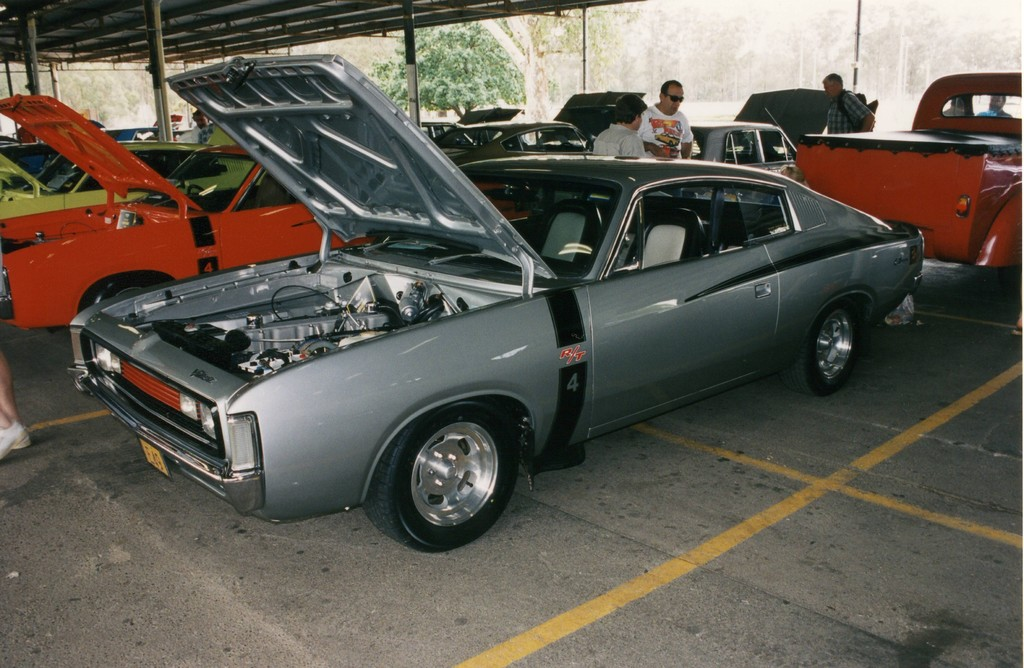Car: (0, 51, 1023, 553), (0, 94, 371, 325), (0, 122, 261, 219), (691, 88, 875, 180), (430, 88, 647, 158)
